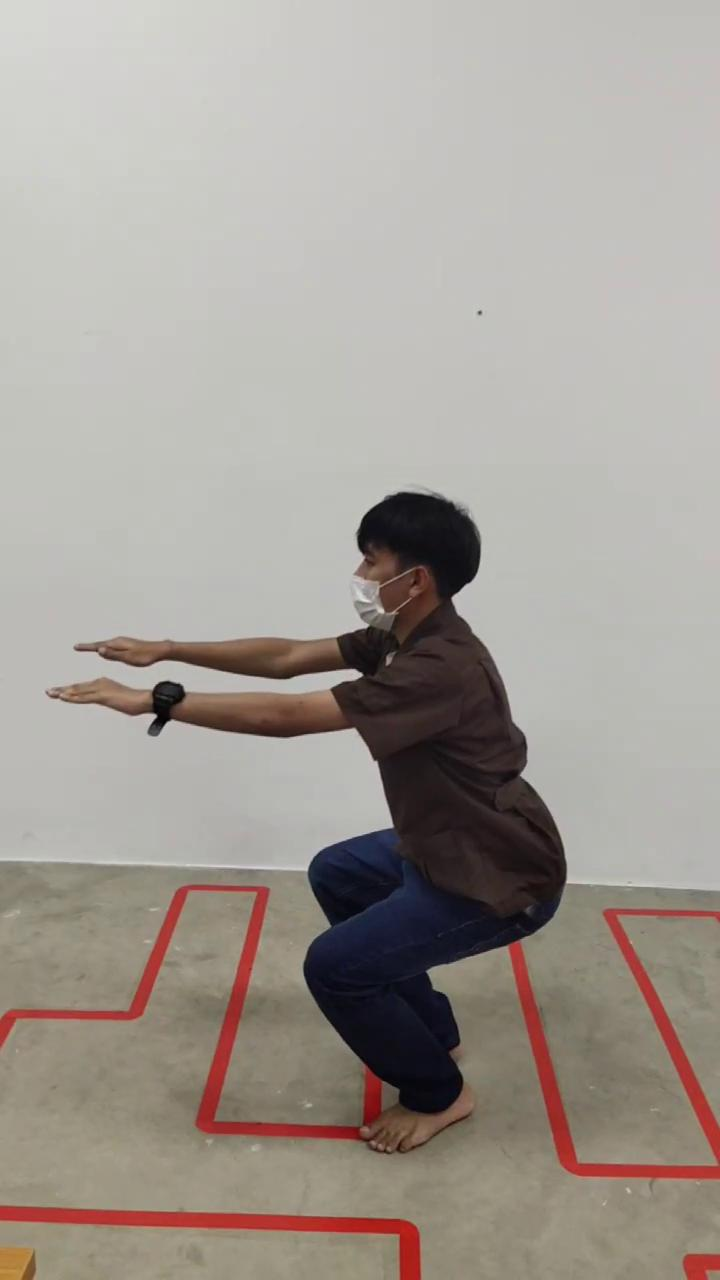squat down: (51, 491, 568, 1153)
